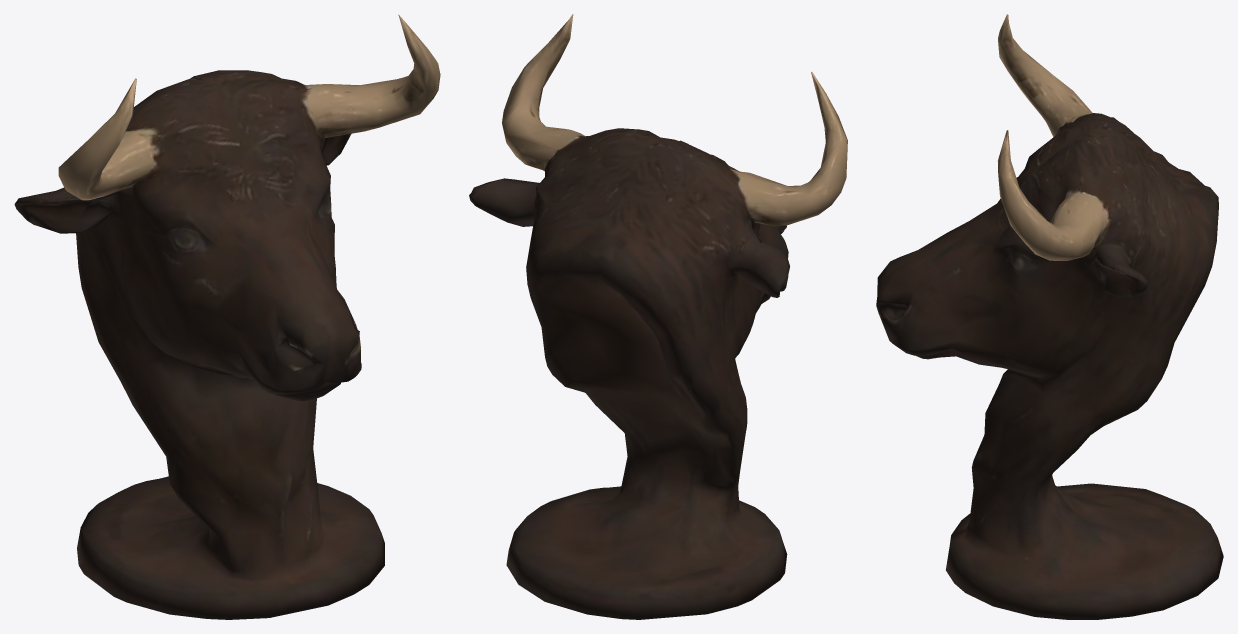
Rendered from bull_head.glb.
The picture shows the model from 3 angles, left to right: view 1: azimuth 30°, elevation 25°; view 2: azimuth 150°, elevation 25°; view 3: azimuth 270°, elevation 25°; orthographic projection. The views are drawn at different scales.
Parts seen in each view (by area): view 1: bull_head; view 2: bull_head; view 3: bull_head.
Part boxes in pixels (x1,y1,x2,y2): bull_head: [14, 14, 440, 619]; bull_head: [469, 14, 847, 619]; bull_head: [876, 14, 1223, 619].
Bounding box in the file's own units: 0.306 × 0.4327 × 0.2799.
Materials: 1 (1 with a texture image).
